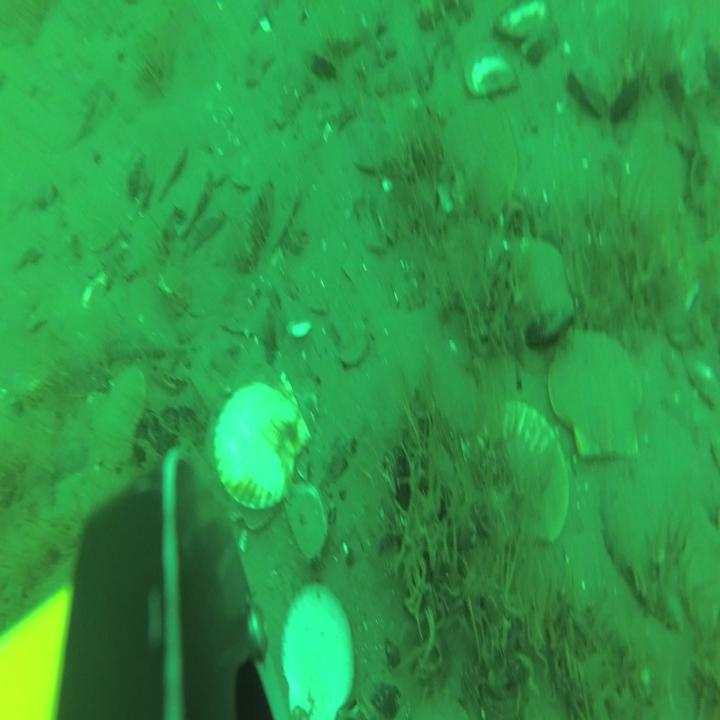holothurian: (415, 0, 467, 35)
scallop: (214, 379, 308, 526), (546, 330, 646, 463), (480, 401, 568, 549), (279, 578, 356, 720), (443, 102, 522, 220), (504, 239, 571, 334), (622, 128, 680, 226), (348, 112, 395, 178)
